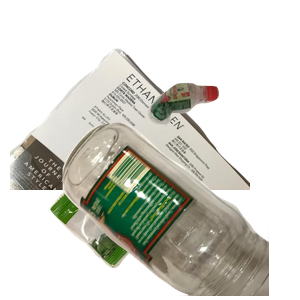glass: (60, 120, 300, 300)
paper: (10, 46, 250, 226)
plastic: (146, 80, 300, 198)
trash: (47, 146, 220, 300)
